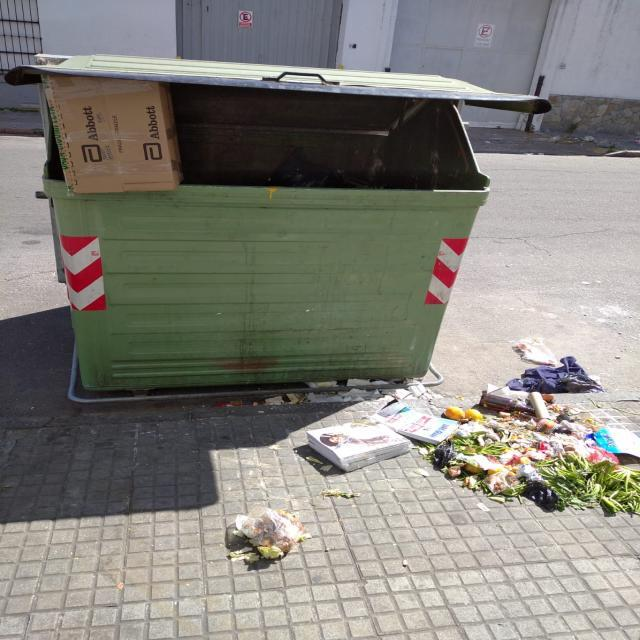garbage: (233, 378, 640, 549), (32, 70, 202, 204), (204, 477, 362, 588), (501, 318, 564, 406)
